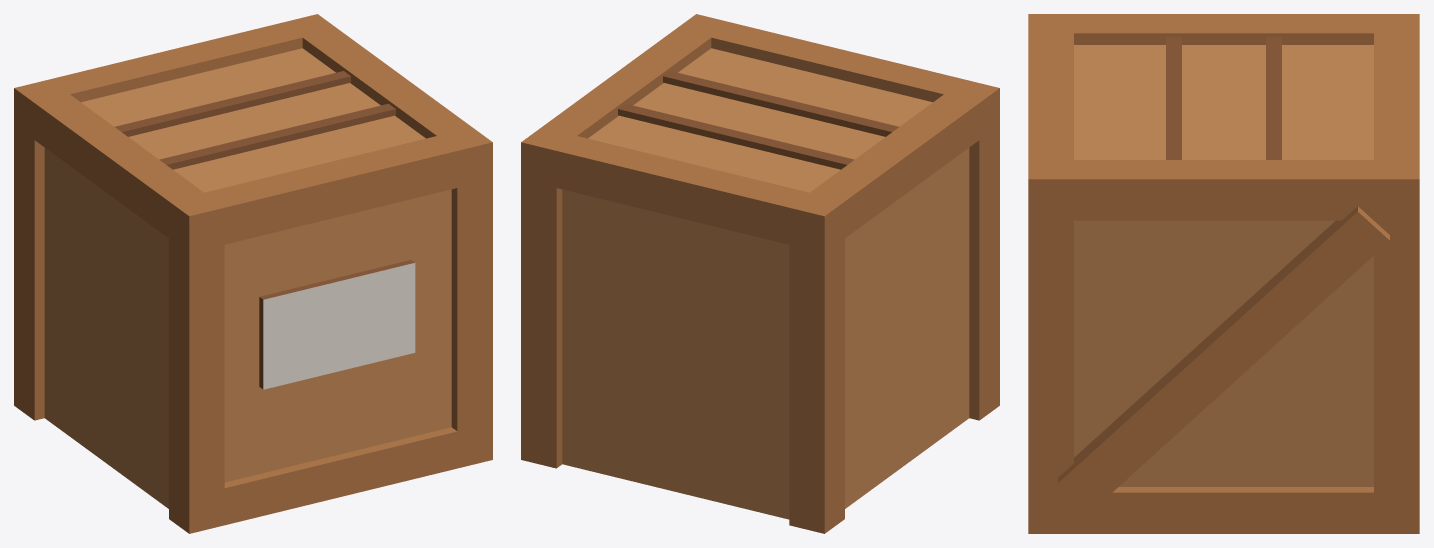
Rendered from food_box.glb.
The picture shows the model from 3 angles, left to right: view 1: azimuth 30°, elevation 25°; view 2: azimuth 150°, elevation 25°; view 3: azimuth 270°, elevation 25°; orthographic projection. The views are drawn at different scales.
Visible parts, largest first — view 1: food_box; view 2: food_box; view 3: food_box.
Part boxes in pixels (x1,y1,x2,y2): food_box: [14, 14, 492, 533]; food_box: [521, 14, 999, 533]; food_box: [1028, 14, 1419, 533].
Bounding box in the file's own units: 0.62 × 0.6 × 0.6.
Materials: 1 (1 with a texture image).
